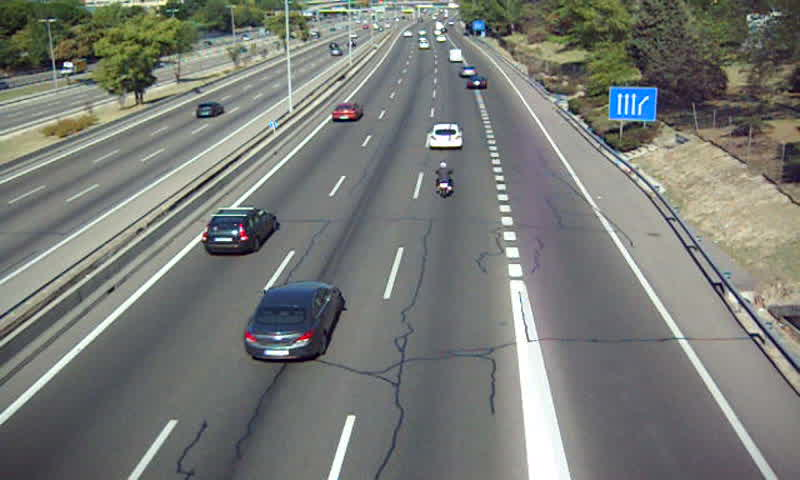car: (244, 280, 340, 360), (202, 210, 276, 254), (427, 124, 464, 152), (332, 102, 363, 122), (466, 77, 489, 90), (460, 65, 478, 79)
motorcycle: (436, 160, 455, 200)
van: (448, 47, 463, 62)
